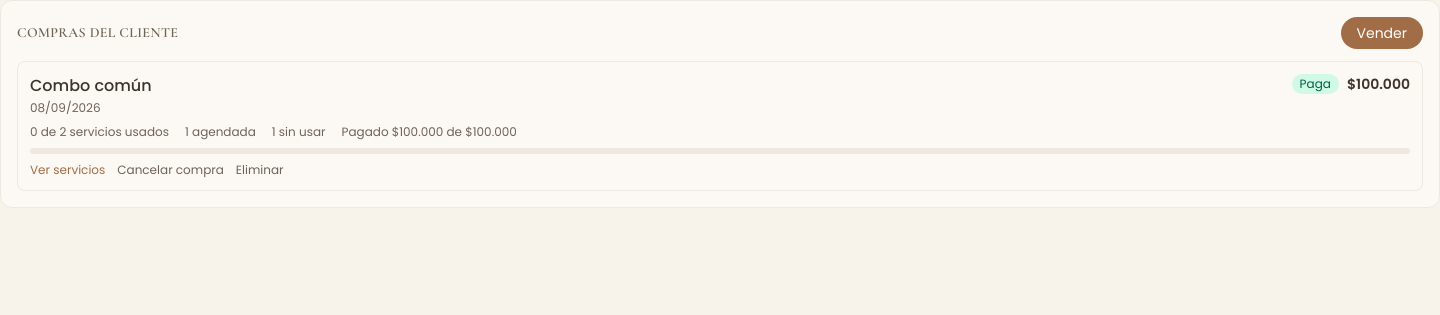
Scenario: ComprasCard — sesiones y zonas › un combo común no muestra zonas ni sesiones
This screenshot has width=1440, height=315.
Click the button "Ver servicios" at point(68, 170), box [30,162,105,178]
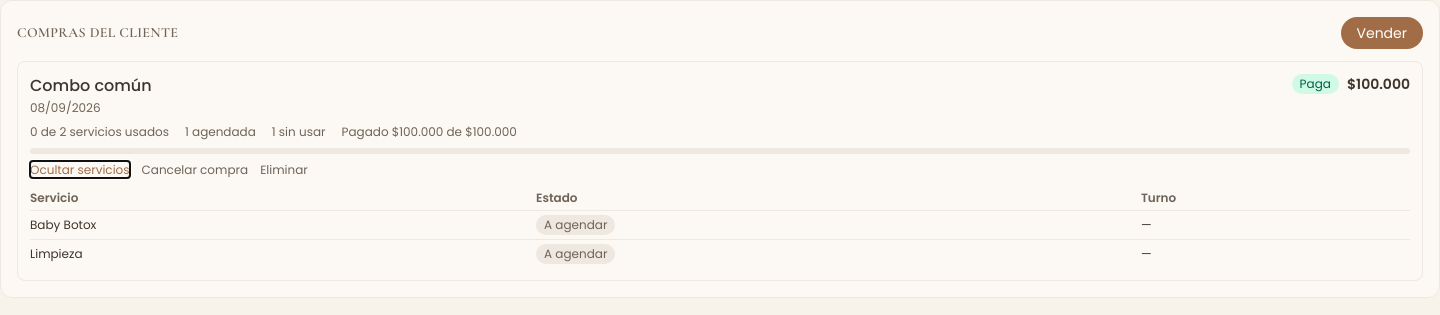
Expected: the text "Baby Botox" is shown, [30,210,536,240]
